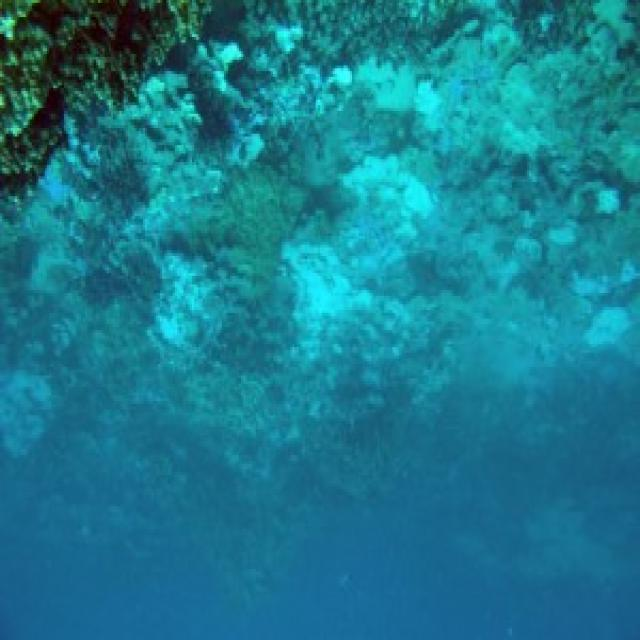Bleached: (340, 154, 449, 246), (285, 239, 370, 350), (151, 248, 234, 357)
Healthy: (1, 1, 203, 212)
